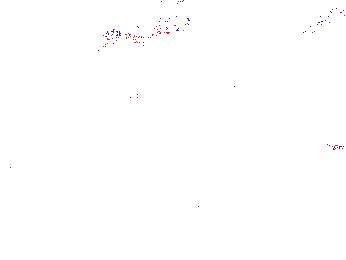redtail glassfish: (103, 14, 198, 50), (293, 7, 344, 46), (132, 84, 174, 106)
